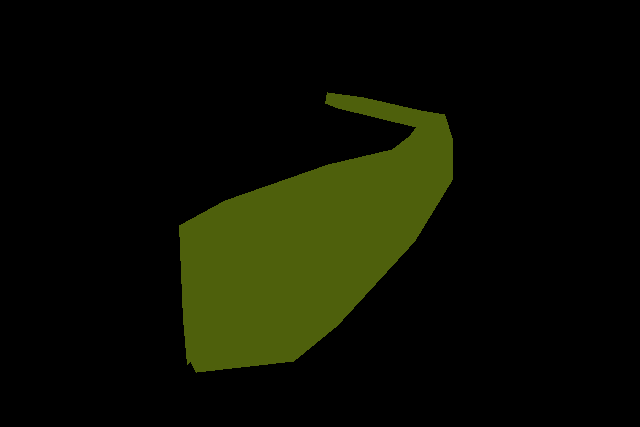Train: (179, 92, 453, 372)
